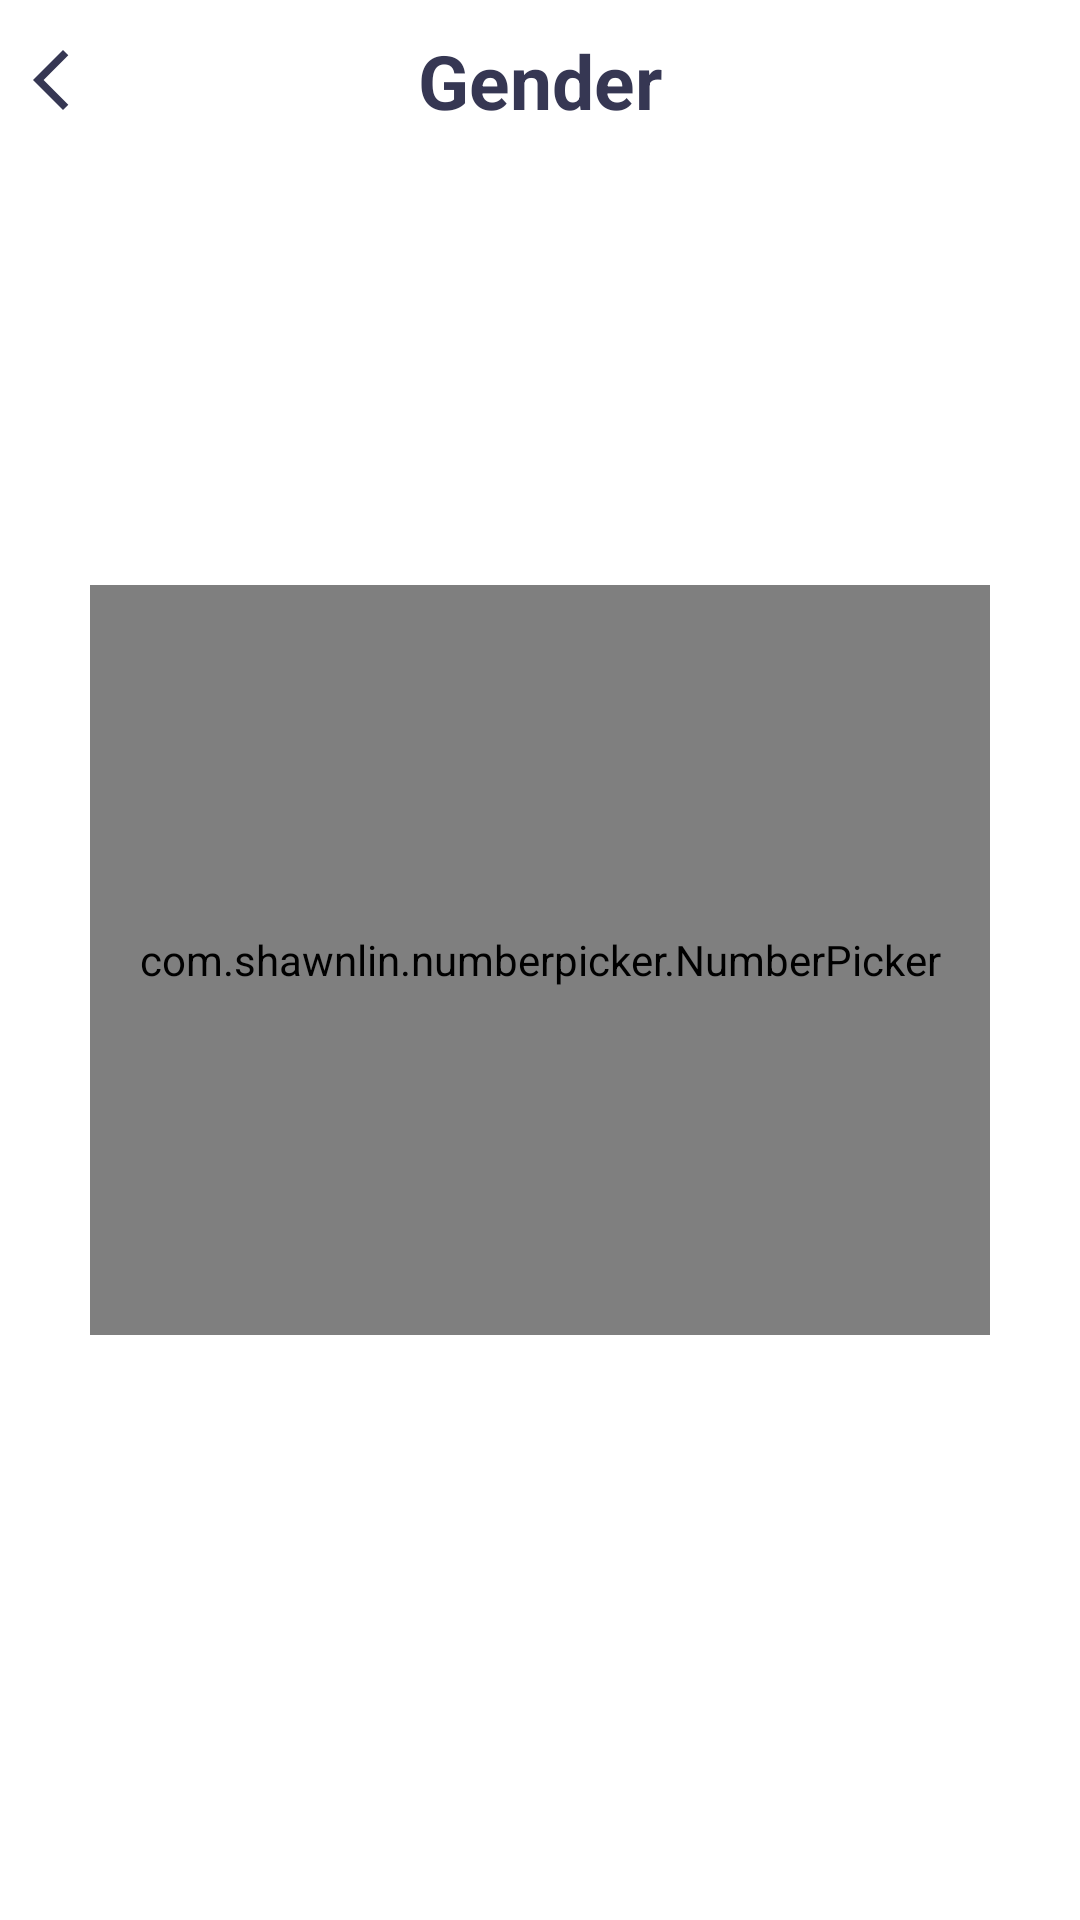

Point at icon controls on the screen. Image size 1080×1920, points as (x,y).
arrow back: (50,80)
